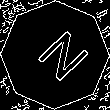N_SW: (23, 23, 87, 87)
